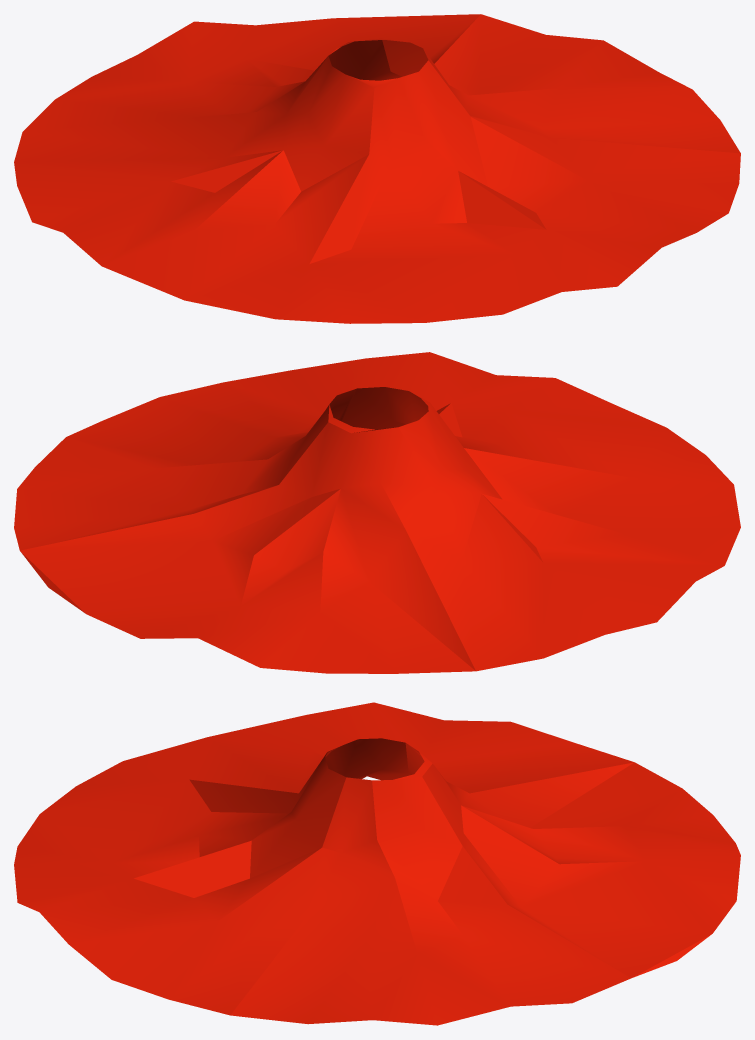
The model's file is Prefab_Xmas_Tree_Skirt_B.glb.
The picture shows the model from 3 angles, top to bottom: view 1: azimuth 30°, elevation 25°; view 2: azimuth 150°, elevation 25°; view 3: azimuth 270°, elevation 25°; orthographic projection.
Visible parts, largest first — view 1: Skirt_B; view 2: Skirt_B; view 3: Skirt_B.
Boxes of the visible parts, x1=… form: Skirt_B: x1=14, y1=14, x2=740, y2=323; Skirt_B: x1=14, y1=352, x2=740, y2=673; Skirt_B: x1=14, y1=702, x2=740, y2=1025.
Size of the model in its own units: 1.77 by 0.3054 by 1.76.
